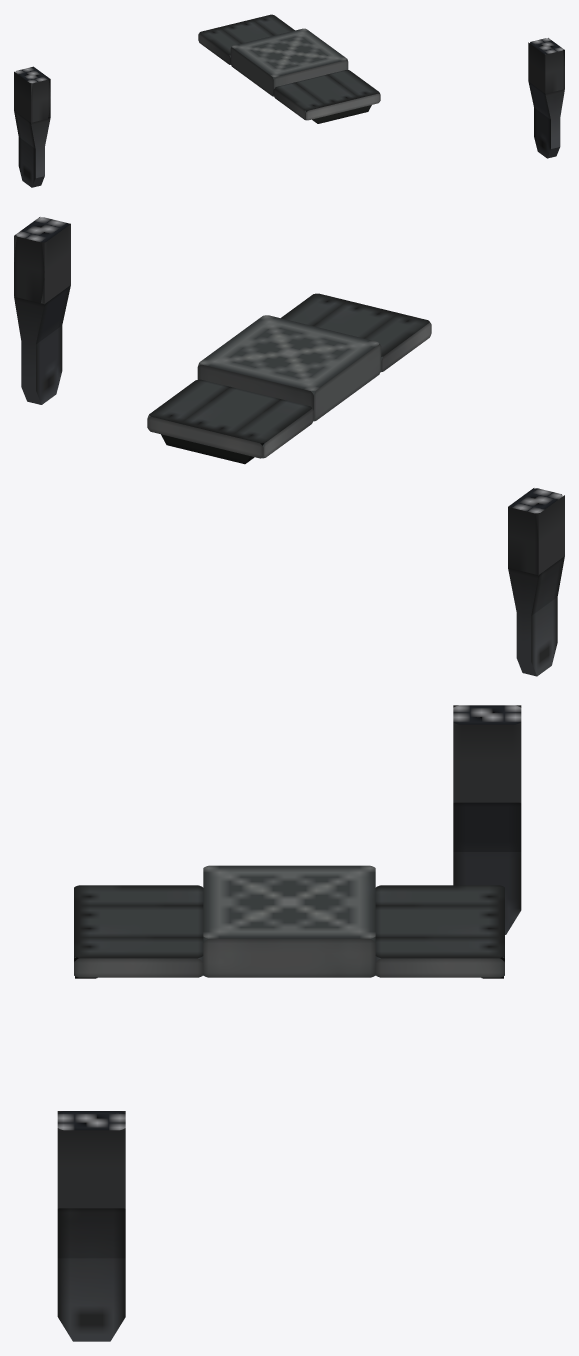
Rendered from top.obj.
3 renders of one model, top to bottom at view 1: azimuth 30°, elevation 25°; view 2: azimuth 150°, elevation 25°; view 3: azimuth 270°, elevation 25°, orthographic. The views are drawn at different scales.
Parts seen in each view (by area): view 1: 56c1bbc7-c453-7477-8f8b-d77dbbcf70d7, 8c42eb60-eba9-6e71-3d1f-0c68ef4d4d09, f77dd5db-c87e-3ae5-c75c-33c43ad63633, 71fd73f0-bca6-35c0-14a2-e4214ddc5f08, aea69e6b-f9ae-9bda-4f66-8b6850f674b7, bbb411fe-d79e-a8de-498e-09964007b097; view 2: 56c1bbc7-c453-7477-8f8b-d77dbbcf70d7, 8c42eb60-eba9-6e71-3d1f-0c68ef4d4d09, f77dd5db-c87e-3ae5-c75c-33c43ad63633, aea69e6b-f9ae-9bda-4f66-8b6850f674b7, 71fd73f0-bca6-35c0-14a2-e4214ddc5f08, 5818608d-f7bc-5480-053f-4851f2b29fdf; view 3: 56c1bbc7-c453-7477-8f8b-d77dbbcf70d7, f77dd5db-c87e-3ae5-c75c-33c43ad63633, 8c42eb60-eba9-6e71-3d1f-0c68ef4d4d09, 71fd73f0-bca6-35c0-14a2-e4214ddc5f08, aea69e6b-f9ae-9bda-4f66-8b6850f674b7.
Part boxes in pixels (<box>): 56c1bbc7-c453-7477-8f8b-d77dbbcf70d7: <box>230,28,348,96</box>; 8c42eb60-eba9-6e71-3d1f-0c68ef4d4d09: <box>14,66,50,187</box>; f77dd5db-c87e-3ae5-c75c-33c43ad63633: <box>528,38,564,158</box>; 71fd73f0-bca6-35c0-14a2-e4214ddc5f08: <box>273,70,380,120</box>; aea69e6b-f9ae-9bda-4f66-8b6850f674b7: <box>198,14,294,64</box>; bbb411fe-d79e-a8de-498e-09964007b097: <box>305,105,371,123</box>; 56c1bbc7-c453-7477-8f8b-d77dbbcf70d7: <box>197,315,381,421</box>; 8c42eb60-eba9-6e71-3d1f-0c68ef4d4d09: <box>508,488,564,676</box>; f77dd5db-c87e-3ae5-c75c-33c43ad63633: <box>14,217,70,404</box>; aea69e6b-f9ae-9bda-4f66-8b6850f674b7: <box>147,379,313,458</box>; 71fd73f0-bca6-35c0-14a2-e4214ddc5f08: <box>281,293,431,371</box>; 5818608d-f7bc-5480-053f-4851f2b29fdf: <box>161,434,264,464</box>; 56c1bbc7-c453-7477-8f8b-d77dbbcf70d7: <box>203,865,375,977</box>; f77dd5db-c87e-3ae5-c75c-33c43ad63633: <box>57,1111,125,1341</box>; 8c42eb60-eba9-6e71-3d1f-0c68ef4d4d09: <box>453,705,521,934</box>; 71fd73f0-bca6-35c0-14a2-e4214ddc5f08: <box>74,885,203,977</box>; aea69e6b-f9ae-9bda-4f66-8b6850f674b7: <box>375,885,504,977</box>.
Bounding box in the file's own units: 5.83 × 1.48 × 2.69.
